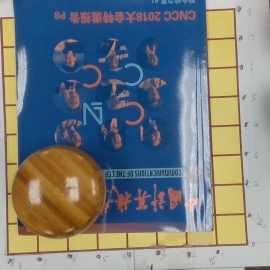chess: (12, 149, 112, 235)
